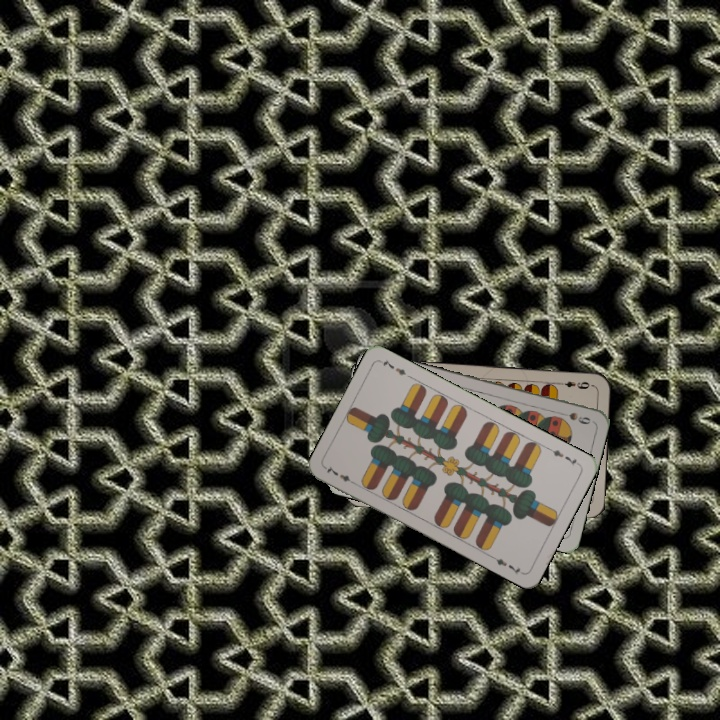E7: (322, 462, 359, 488), (544, 444, 582, 468)
E9: (554, 377, 595, 392)
S9: (554, 408, 593, 427)
